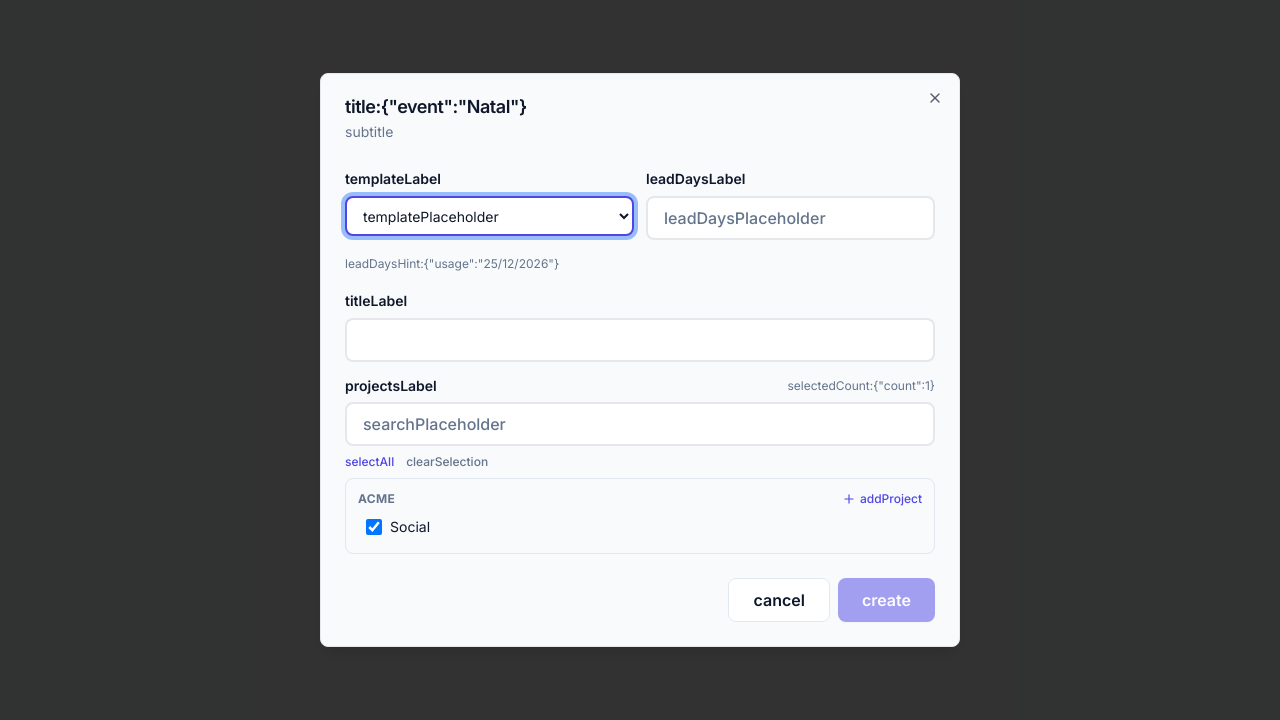
Test: BatchCreateDialog — planejamento para trás › mostra a cadeia inteira: evento, entrega e conclusão
The width and height of the screenshot is (1280, 720).
Select "Campanha" in the dropdown labelled "templateLabel" at (490, 216), box [345, 196, 634, 236]
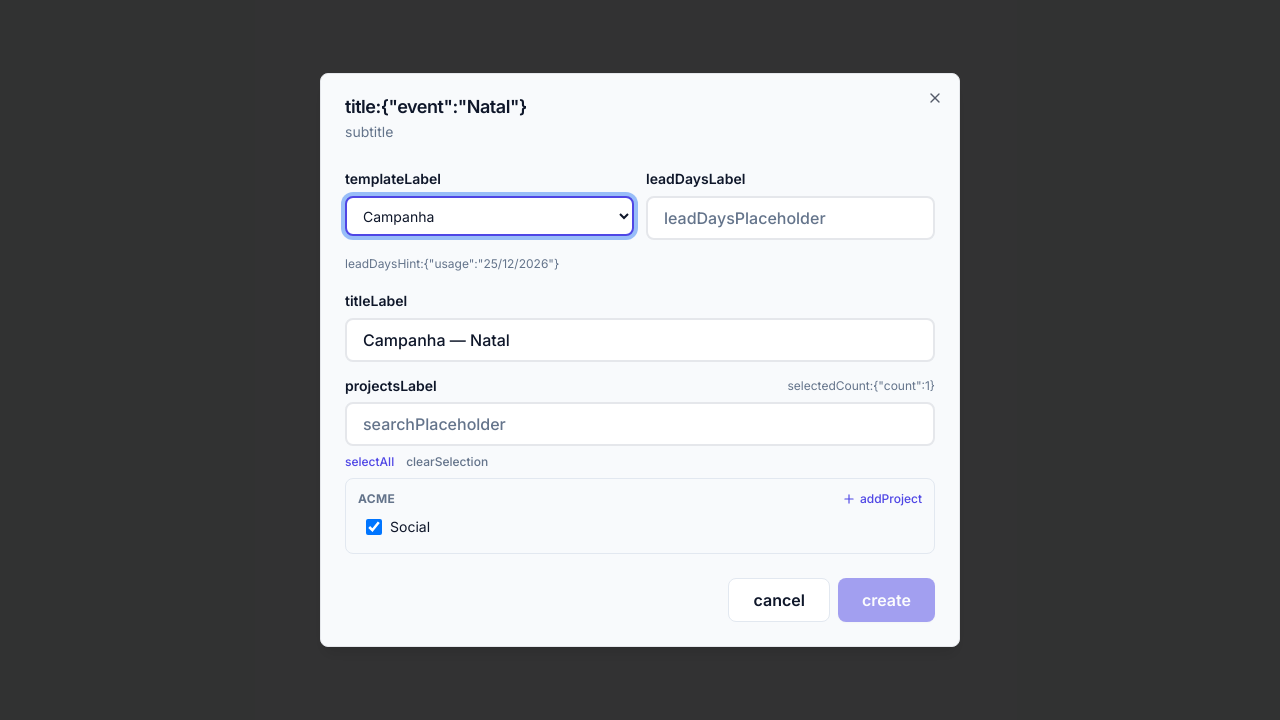
Type "14" into the number field labelled "leadDaysLabel" at (790, 218), box [646, 196, 935, 240]
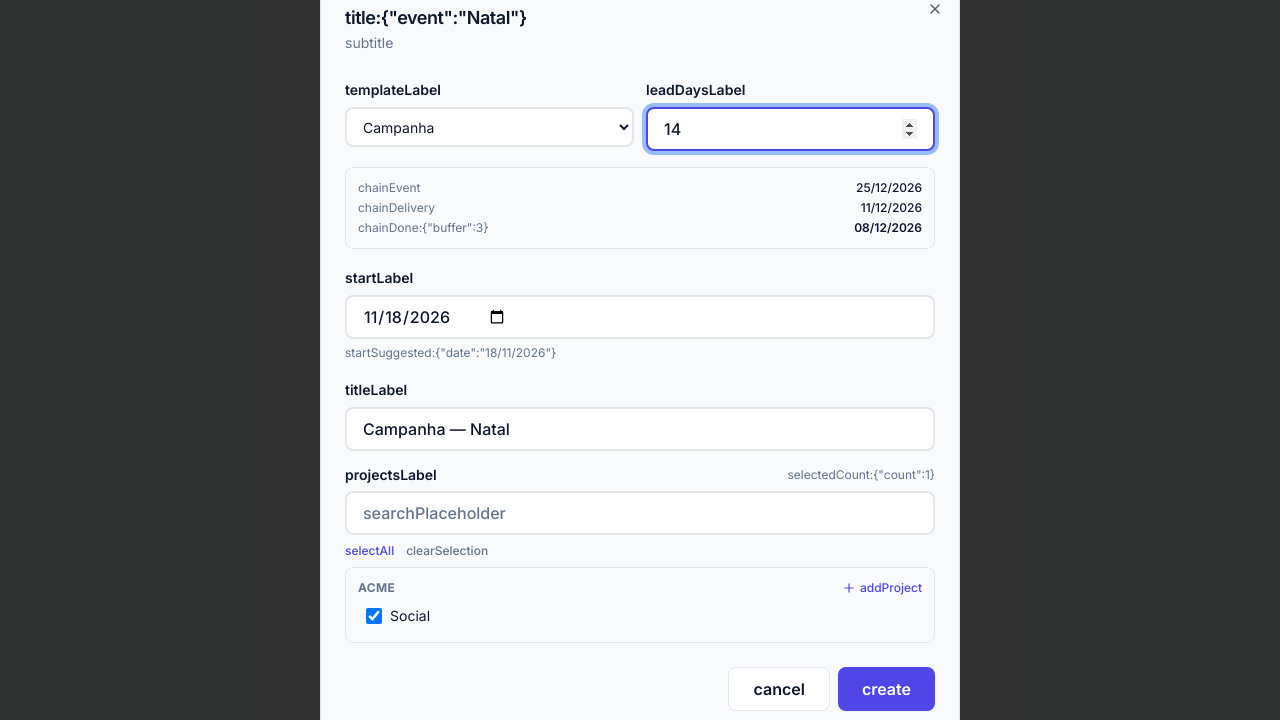
Now the text "chainEvent" is shown, box [358, 180, 420, 196]
Now the text "chainDelivery" is shown, box [358, 200, 435, 216]
Now the text "11/12/2026" is shown, box [861, 200, 922, 216]
